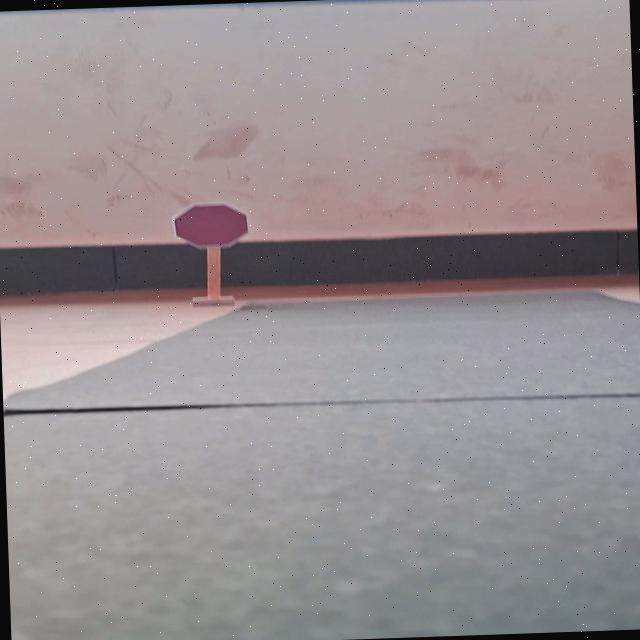Stop: (172, 201, 250, 250)
